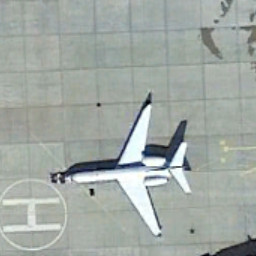Airplane: (37, 88, 201, 242)
